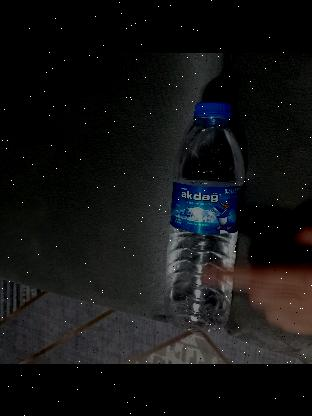Plastic Bottle: (162, 92, 248, 328)
